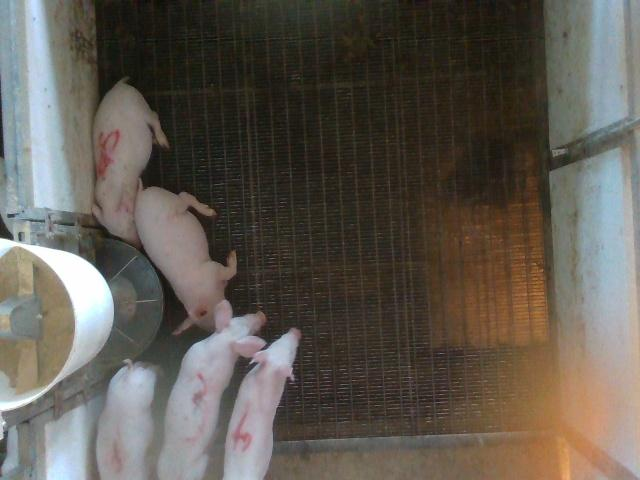pig-1: (99, 360, 156, 479)
pig-3: (158, 300, 266, 479)
pig-4: (224, 328, 301, 478)
pig-5: (92, 78, 169, 247)
